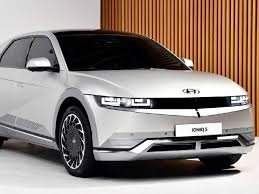Honda Ioniq: (1, 27, 258, 177)
